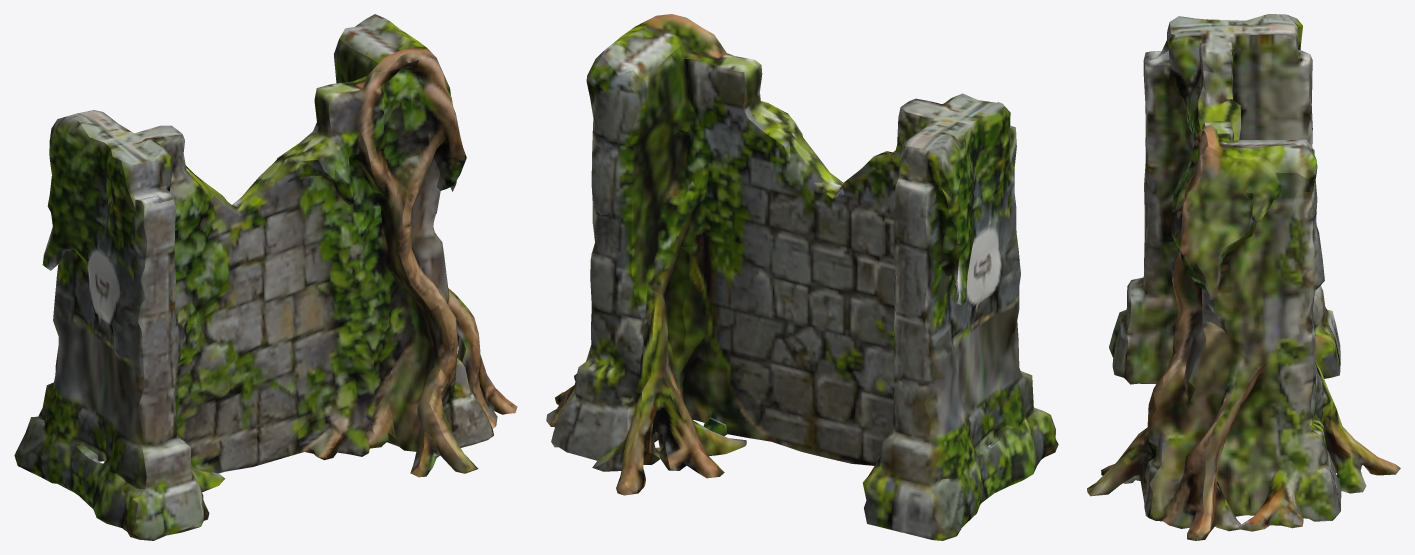
The model's file is F3D_18_TowerWall.fbx.
3 renders of one model, left to right at view 1: azimuth 30°, elevation 25°; view 2: azimuth 150°, elevation 25°; view 3: azimuth 270°, elevation 25°, orthographic. The views are drawn at different scales.
Visible parts, largest first — view 1: F3D_18_TowerWall; view 2: F3D_18_TowerWall; view 3: F3D_18_TowerWall.
Boxes of the visible parts, x1,y1,x2,y2 form: F3D_18_TowerWall: (14,14,517,540); F3D_18_TowerWall: (546,14,1058,540); F3D_18_TowerWall: (1087,14,1400,540).
Bounding box in the file's own units: 1.18 × 1 × 0.775.
1 material, 1 textured.
